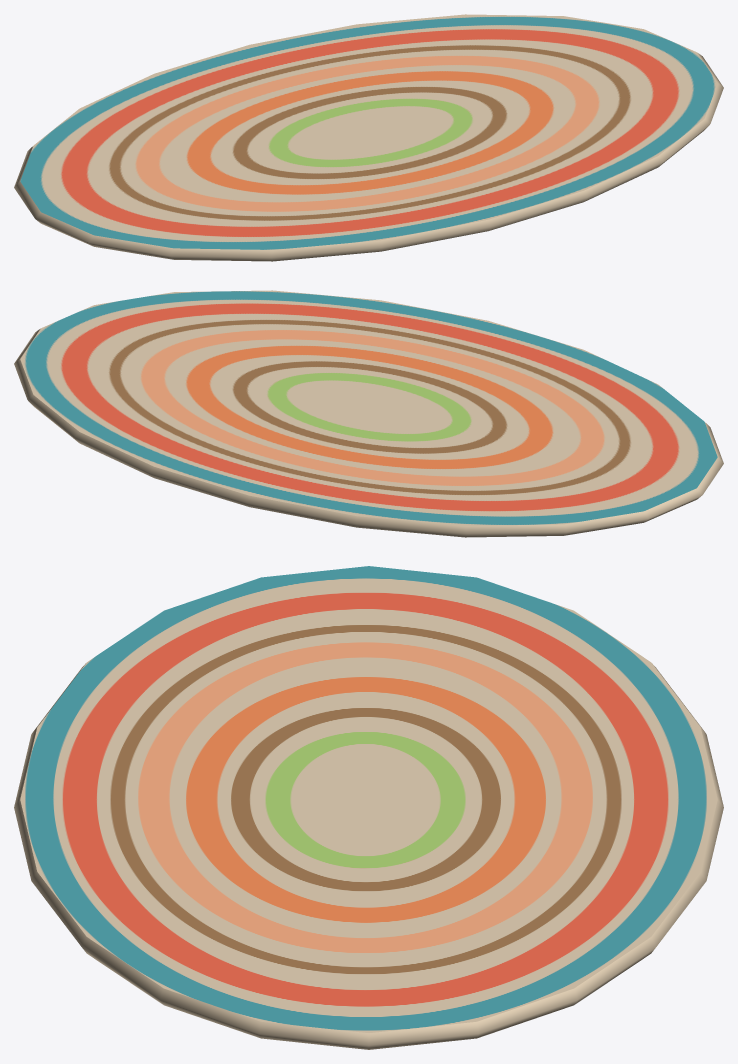
The model's file is oval_Rug.fbx.
3 views of the same model, one above another, from view 1: azimuth 30°, elevation 25°; view 2: azimuth 150°, elevation 25°; view 3: azimuth 270°, elevation 25° (orthographic). The views are drawn at different scales.
Visible parts, largest first — view 1: pCylinder1; view 2: pCylinder1; view 3: pCylinder1.
Part boxes in pixels (x1,y1,x2,y2): pCylinder1: (14, 14, 723, 261); pCylinder1: (14, 290, 723, 537); pCylinder1: (14, 566, 723, 1049).
Size of the model in its own units: 3.92 by 0.0644 by 2.47.
Materials: 1 (1 with a texture image).
